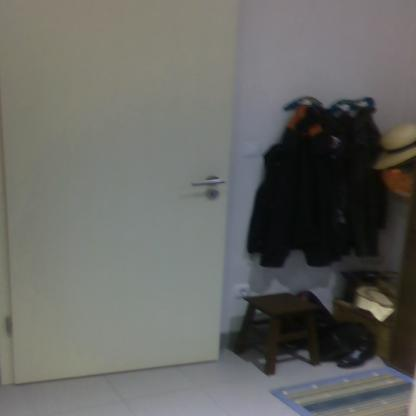door: (0, 0, 222, 366)
hinged: (4, 314, 14, 336)
lever: (190, 176, 228, 188)
